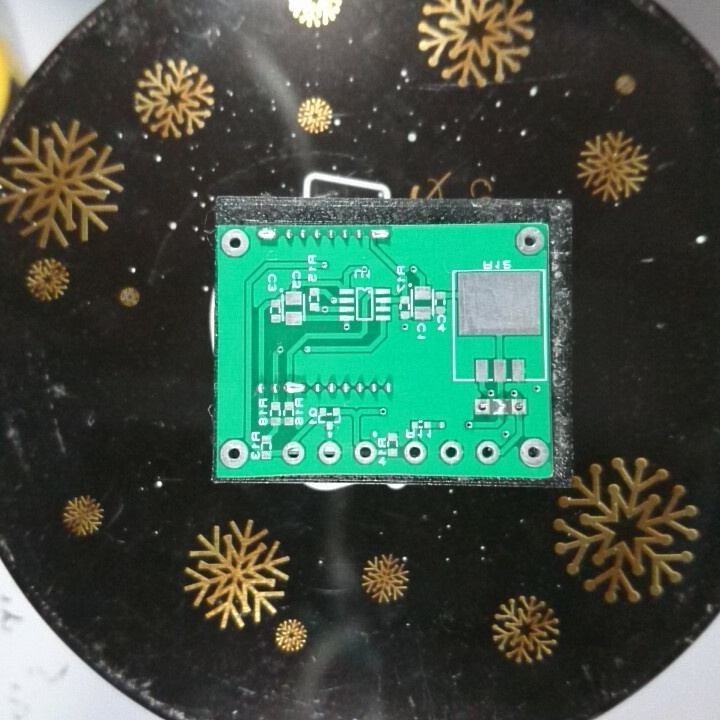F: (512, 224, 547, 260), (218, 434, 250, 471), (518, 437, 550, 471), (219, 226, 250, 260), (316, 438, 344, 468), (282, 439, 309, 466), (352, 440, 380, 466), (438, 438, 464, 466), (474, 438, 500, 466), (401, 440, 428, 466), (470, 396, 493, 418), (507, 396, 529, 417)
P: (281, 376, 310, 398), (367, 225, 394, 243), (255, 226, 280, 244)
